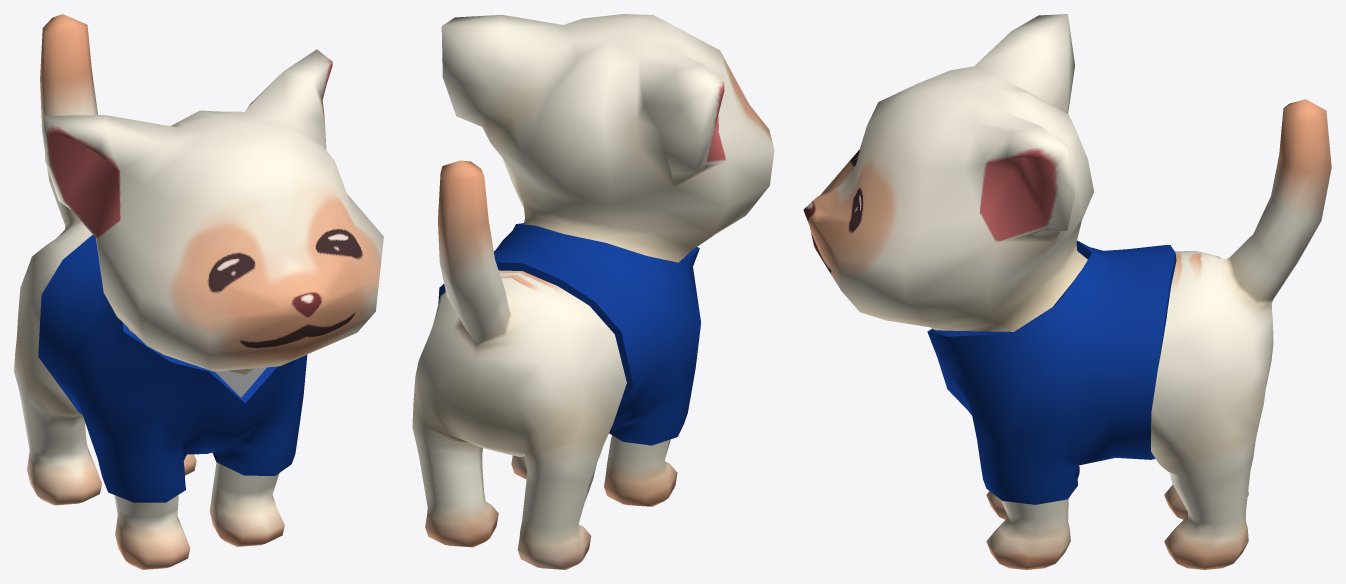
Rendered from Nurse Cat02.fbx.
3 views of the same model, side by side, from view 1: azimuth 30°, elevation 25°; view 2: azimuth 150°, elevation 25°; view 3: azimuth 270°, elevation 25° (orthographic). The views are drawn at different scales.
Parts seen in each view (by area): view 1: Cat_Base001, Nurse_Cat_Scrubs; view 2: Cat_Base001, Nurse_Cat_Scrubs; view 3: Cat_Base001, Nurse_Cat_Scrubs.
Boxes of the visible parts, box(x1,y1,x2,y2) form: Cat_Base001: box(14, 14, 383, 569); Nurse_Cat_Scrubs: box(38, 235, 307, 502); Cat_Base001: box(412, 14, 774, 569); Nurse_Cat_Scrubs: box(438, 223, 700, 445); Cat_Base001: box(803, 14, 1331, 569); Nurse_Cat_Scrubs: box(927, 240, 1176, 504).
Bounding box in the file's own units: 1.75 × 2.83 × 2.68.
3 materials, 1 textured.
